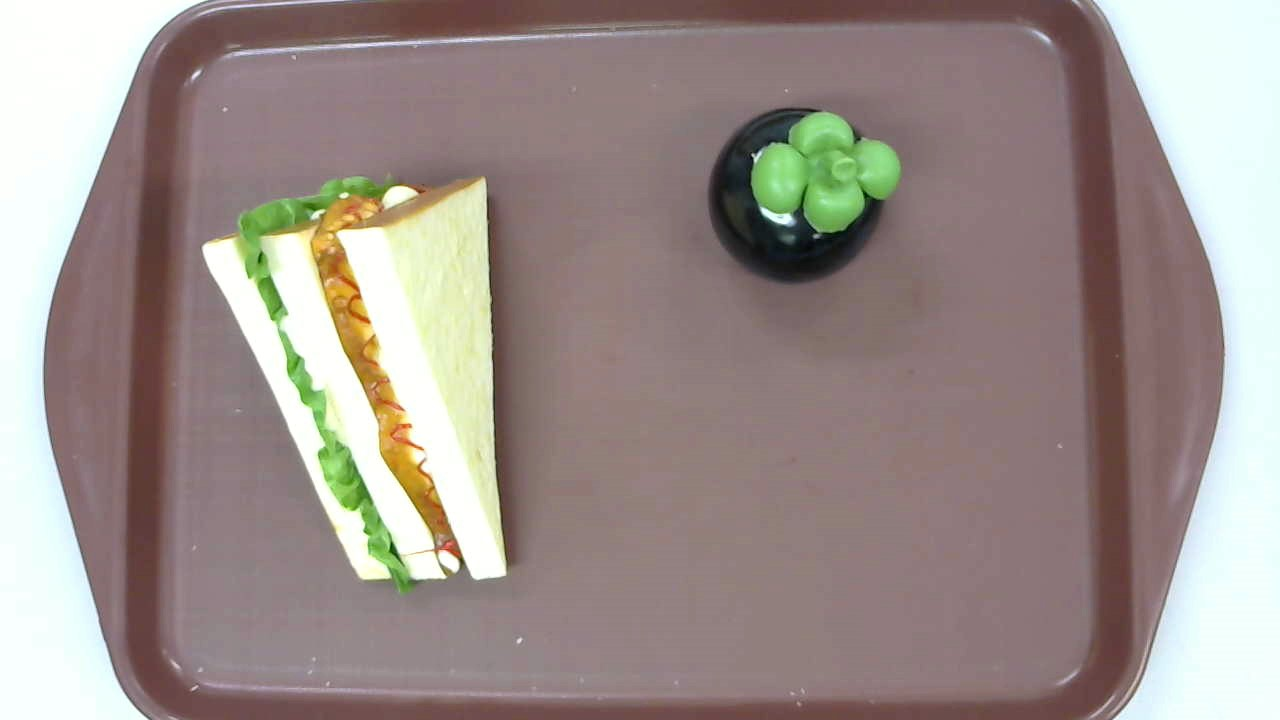mangosteen: (708, 107, 902, 287)
sandwich: (200, 172, 507, 596)
